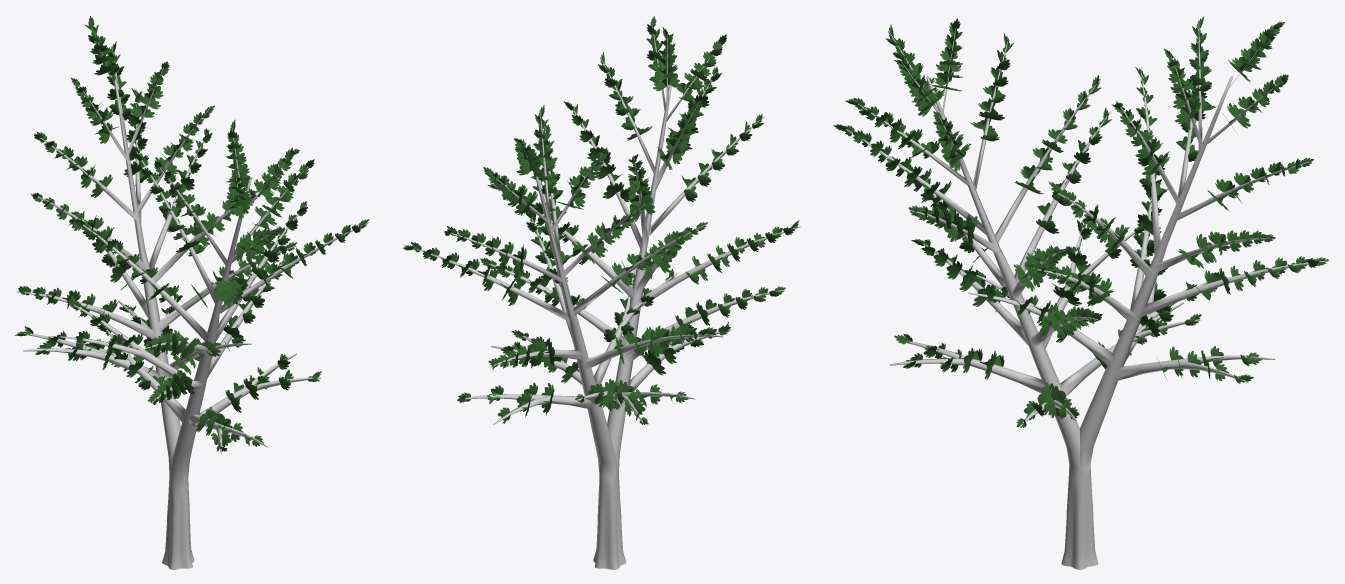
The model's file is Tree_2.obj.
The picture shows the model from 3 angles, left to right: view 1: azimuth 30°, elevation 25°; view 2: azimuth 150°, elevation 25°; view 3: azimuth 270°, elevation 25°; orthographic projection. The views are drawn at different scales.
Parts seen in each view (by area): view 1: ..\..\projects\godot\ludum_dare49\res\assets\textures\leaf\sprit, sys/tree it/no texture; view 2: ..\..\projects\godot\ludum_dare49\res\assets\textures\leaf\sprit, sys/tree it/no texture; view 3: ..\..\projects\godot\ludum_dare49\res\assets\textures\leaf\sprit, sys/tree it/no texture.
Part boxes in pixels (bbox=[...]): ..\..\projects\godot\ludum_dare49\res\assets\textures\leaf\sprit: bbox=[14, 16, 369, 451]; sys/tree it/no texture: bbox=[16, 22, 368, 569]; ..\..\projects\godot\ludum_dare49\res\assets\textures\leaf\sprit: bbox=[403, 16, 799, 424]; sys/tree it/no texture: bbox=[403, 22, 800, 569]; ..\..\projects\godot\ludum_dare49\res\assets\textures\leaf\sprit: bbox=[833, 16, 1328, 427]; sys/tree it/no texture: bbox=[837, 21, 1326, 569].
Size of the model in its own units: 237 by 427 by 354.
